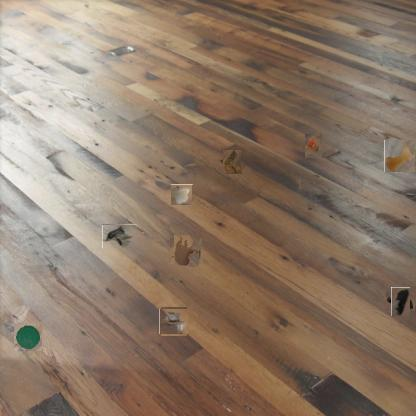dirty: (102, 224, 137, 248), (160, 308, 188, 335), (15, 323, 42, 351), (388, 289, 412, 314), (221, 151, 243, 173), (172, 184, 194, 205), (306, 134, 324, 158)
liquid: (384, 141, 416, 172), (172, 236, 200, 266)
